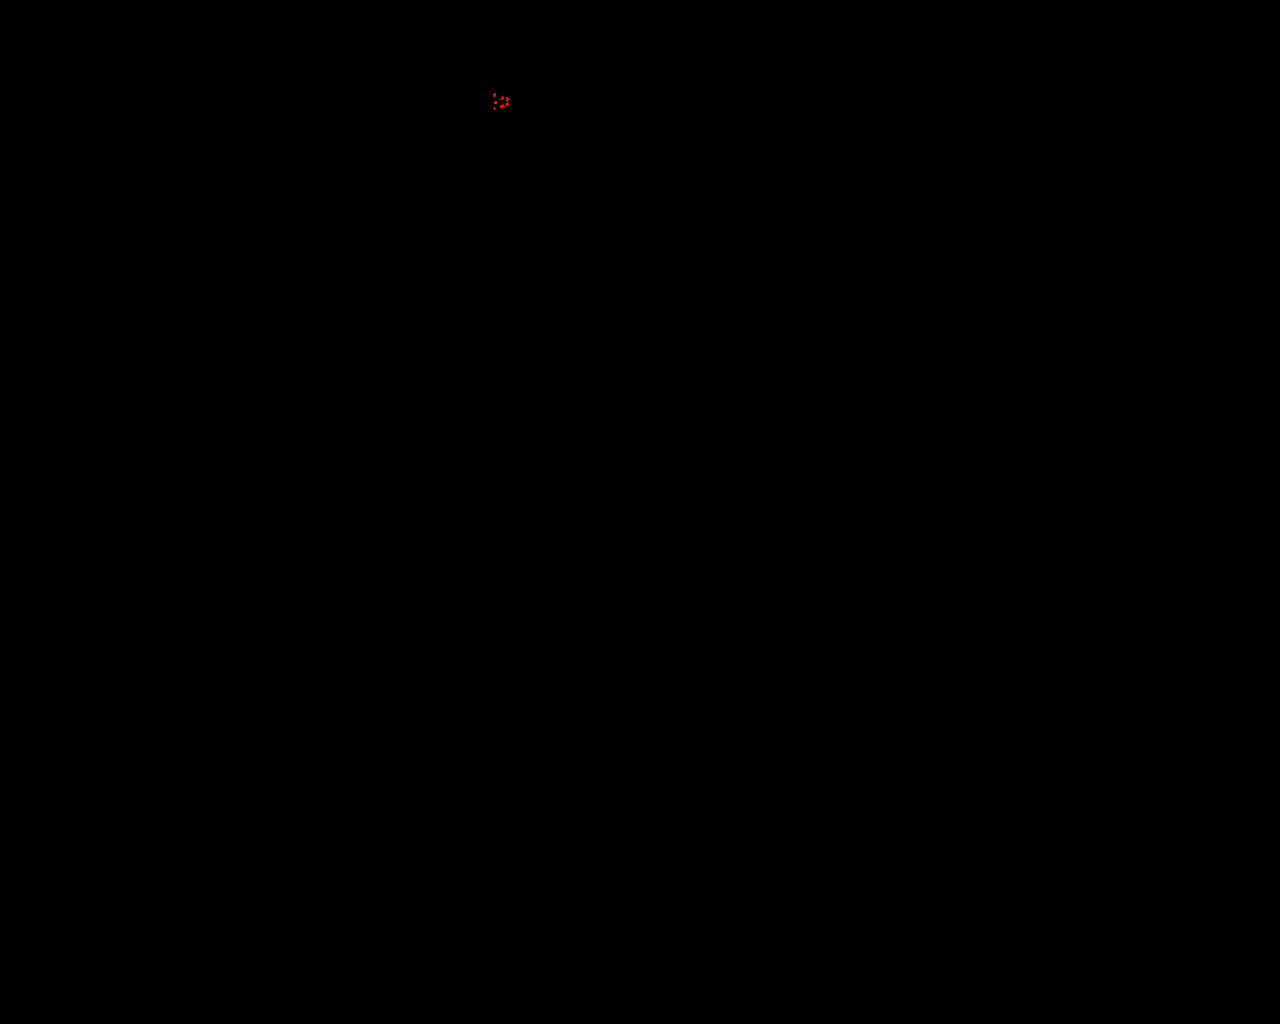Target: (493, 93, 496, 97), (501, 96, 504, 100), (506, 97, 509, 101), (501, 104, 505, 108), (494, 101, 497, 104), (506, 102, 509, 106), (493, 107, 496, 110)
